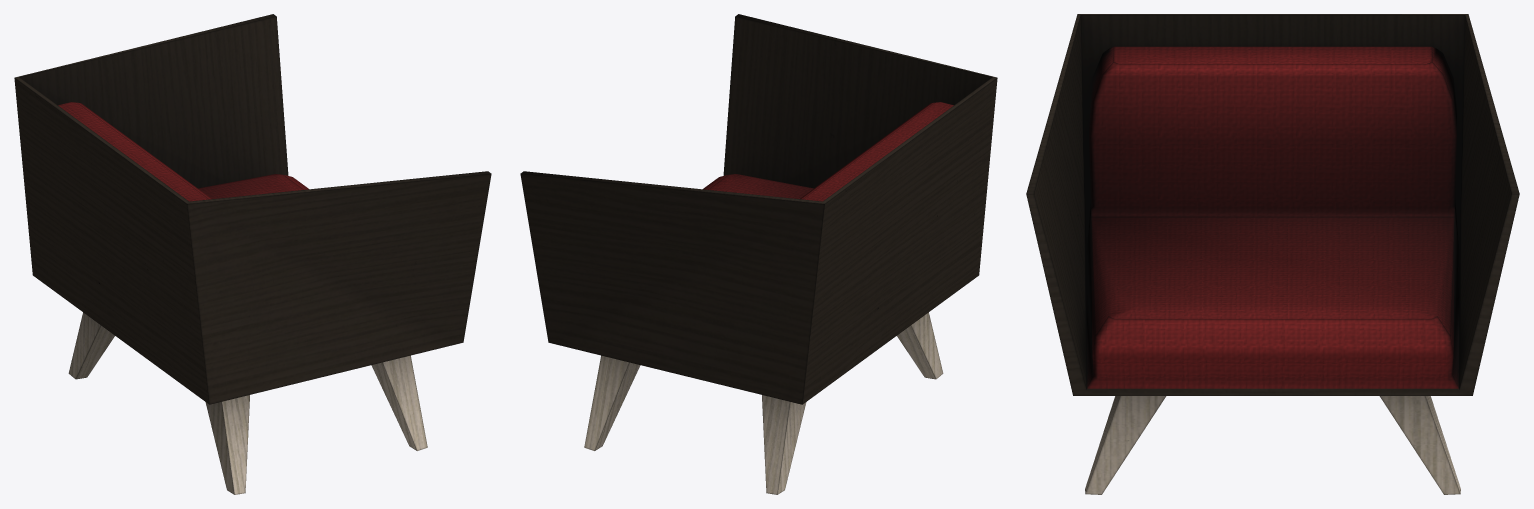
The model's file is outside chair.fbx.
3 renders of one model, left to right at view 1: azimuth 30°, elevation 25°; view 2: azimuth 150°, elevation 25°; view 3: azimuth 270°, elevation 25°, orthographic. The views are drawn at different scales.
Visible parts, largest first — view 1: pCube1; view 2: pCube1; view 3: pCube1.
Boxes of the visible parts, x1,y1,x2,y2 form: pCube1: [14, 14, 491, 494]; pCube1: [520, 14, 997, 494]; pCube1: [1026, 14, 1519, 494].
Size of the model in its own units: 2.95 by 3.08 by 3.95.
Materials: 1 (1 with a texture image).
